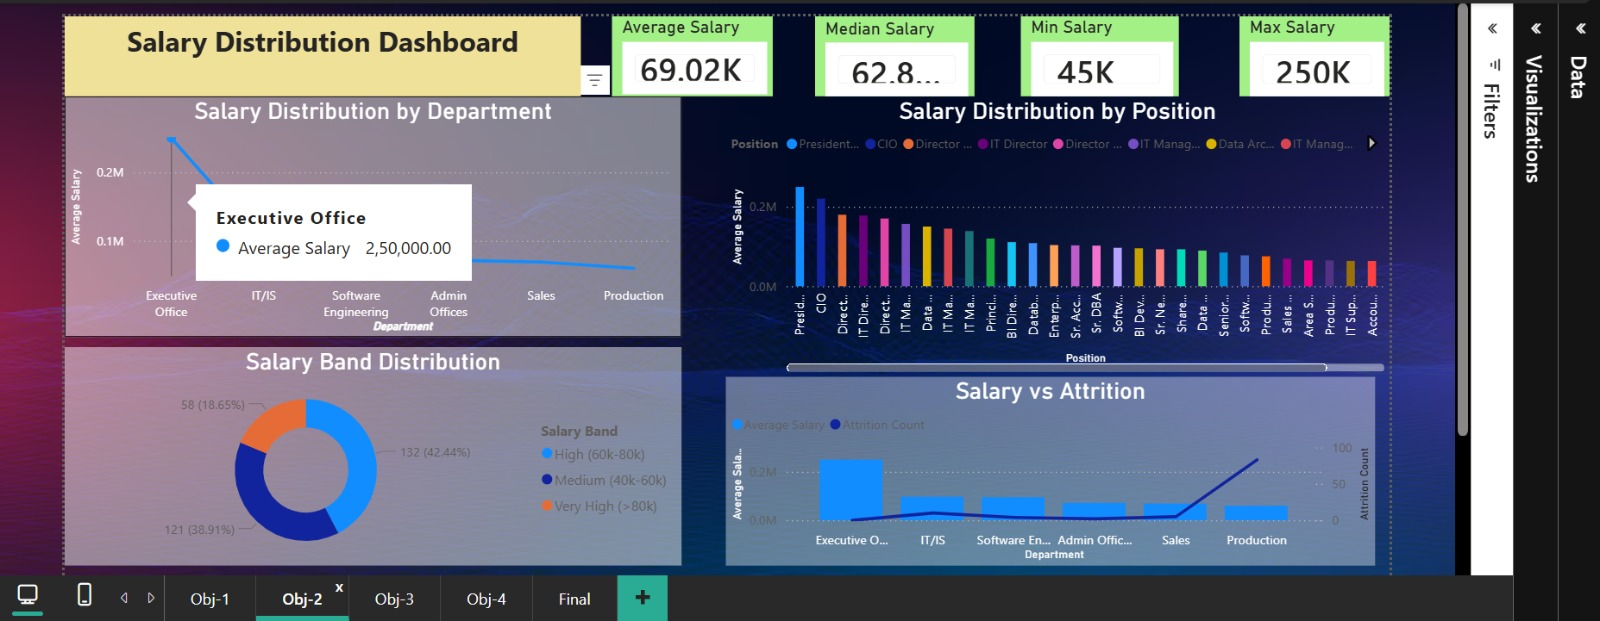

This screenshot's page, from the dashboard's own definition file:
{"tool":"powerbi","page":{"name":"Obj-2","canvas":[1280,720],"ordinal":1},"visuals":[{"type":"lineChart","title":"Salary Distribution by Department","fields":{"Category":["HRDataset_v14.Department"],"Y":["HRDataset_v14.Average Salary"]},"box":[0,77.5,596.2,232.5],"z":0},{"type":"ribbonChart","title":"Salary Distribution by Position","fields":{"Y":["HRDataset_v14.Average Salary"],"Category":["HRDataset_v14.Position"],"Series":["HRDataset_v14.Position"]},"box":[638.8,77.5,641.2,271.2],"z":1000},{"type":"donutChart","title":"Salary Band Distribution","fields":{"Category":["HRDataset_v14.Salary Band"],"Y":["CountNonNull(HRDataset_v14.EmpID)"]},"box":[0,320,596.2,211.2],"z":2000},{"type":"lineClusteredColumnComboChart","title":"Salary vs Attrition","fields":{"Category":["HRDataset_v14.Department"],"Y":["HRDataset_v14.Average Salary"],"Y2":["HRDataset_v14.Attrition Count"]},"box":[638.8,348.8,627.5,182.5],"z":3000},{"type":"cardVisual","title":"Average Salary","fields":{"Data":["HRDataset_v14.Average Salary"]},"box":[528.8,0,155,77.5],"z":4000},{"type":"cardVisual","title":"Median Salary","fields":{"Data":["HRDataset_v14.Median Salary"]},"box":[725,0,153.8,77.5],"z":5000},{"type":"cardVisual","title":"Min Salary","fields":{"Data":["HRDataset_v14.Min Salary"]},"box":[923.8,0,152.5,77.5],"z":6000},{"type":"cardVisual","title":"Max Salary","fields":{"Data":["HRDataset_v14.Max Salary"]},"box":[1135,0,145,77.5],"z":7000},{"type":"textbox","box":[0,0,498.8,77.5],"z":8000}]}

Visuals, with their boxes on the page's 1280x720 design canvas (x1, y1, x2, y2). These are canvas units, not pixel positions in the 1600x621 screenshot, which may show the page scaled, cropped or inside an application window:
"Salary Distribution by Department" lineChart: <box>0,78,596,310</box>
"Salary Distribution by Position" ribbonChart: <box>639,78,1280,349</box>
"Salary Band Distribution" donutChart: <box>0,320,596,531</box>
"Salary vs Attrition" lineClusteredColumnComboChart: <box>639,349,1266,531</box>
"Average Salary" cardVisual: <box>529,0,684,78</box>
"Median Salary" cardVisual: <box>725,0,879,78</box>
"Min Salary" cardVisual: <box>924,0,1076,78</box>
"Max Salary" cardVisual: <box>1135,0,1280,78</box>
textbox: <box>0,0,499,78</box>
